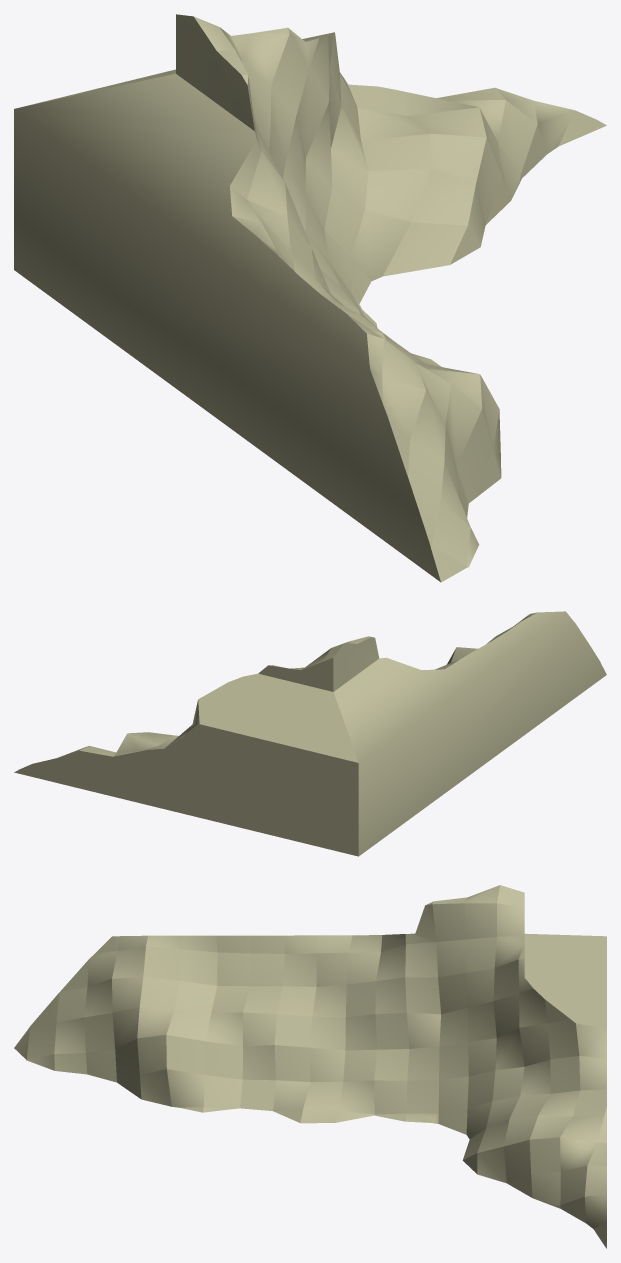
File: M_Achitrave_D13_1.fbx
3 views of the same model, one above another, from view 1: azimuth 30°, elevation 25°; view 2: azimuth 150°, elevation 25°; view 3: azimuth 270°, elevation 25° (orthographic). The views are drawn at different scales.
Parts seen in each view (by area): view 1: M_Architrave; view 2: M_Architrave; view 3: M_Architrave.
Part boxes in pixels (x1=…): M_Architrave: x1=14, y1=14, x2=606, y2=582; M_Architrave: x1=14, y1=611, x2=606, y2=856; M_Architrave: x1=14, y1=885, x2=606, y2=1248.
Size of the model in its own units: 1.44 by 0.6634 by 1.8.
